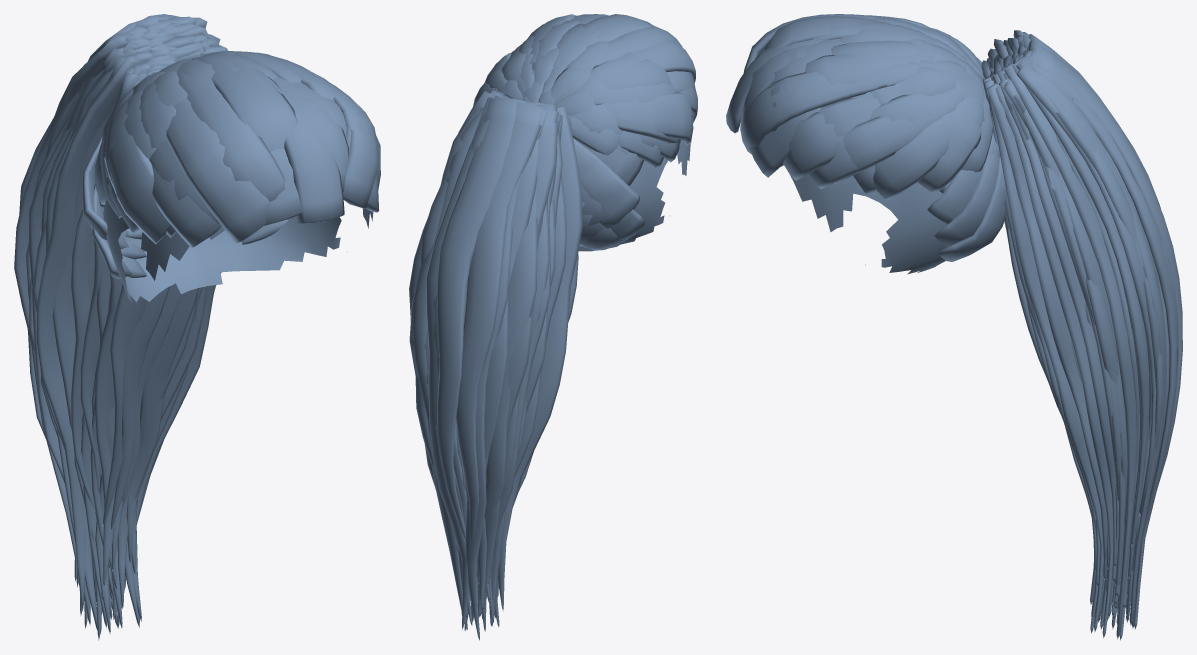
The model's file is hair_anime_female_high_ponytail.glb.
3 views of the same model, side by side, from view 1: azimuth 30°, elevation 25°; view 2: azimuth 150°, elevation 25°; view 3: azimuth 270°, elevation 25° (orthographic). The views are drawn at different scales.
Visible parts, largest first — view 1: AF_Hair_HighPonytail.001; view 2: AF_Hair_HighPonytail.001; view 3: AF_Hair_HighPonytail.001.
Part boxes in pixels (x1,y1,x2,y2): AF_Hair_HighPonytail.001: [14, 14, 380, 640]; AF_Hair_HighPonytail.001: [409, 14, 697, 640]; AF_Hair_HighPonytail.001: [726, 14, 1182, 640].
Size of the model in its own units: 0.189 by 0.5002 by 0.3409.
